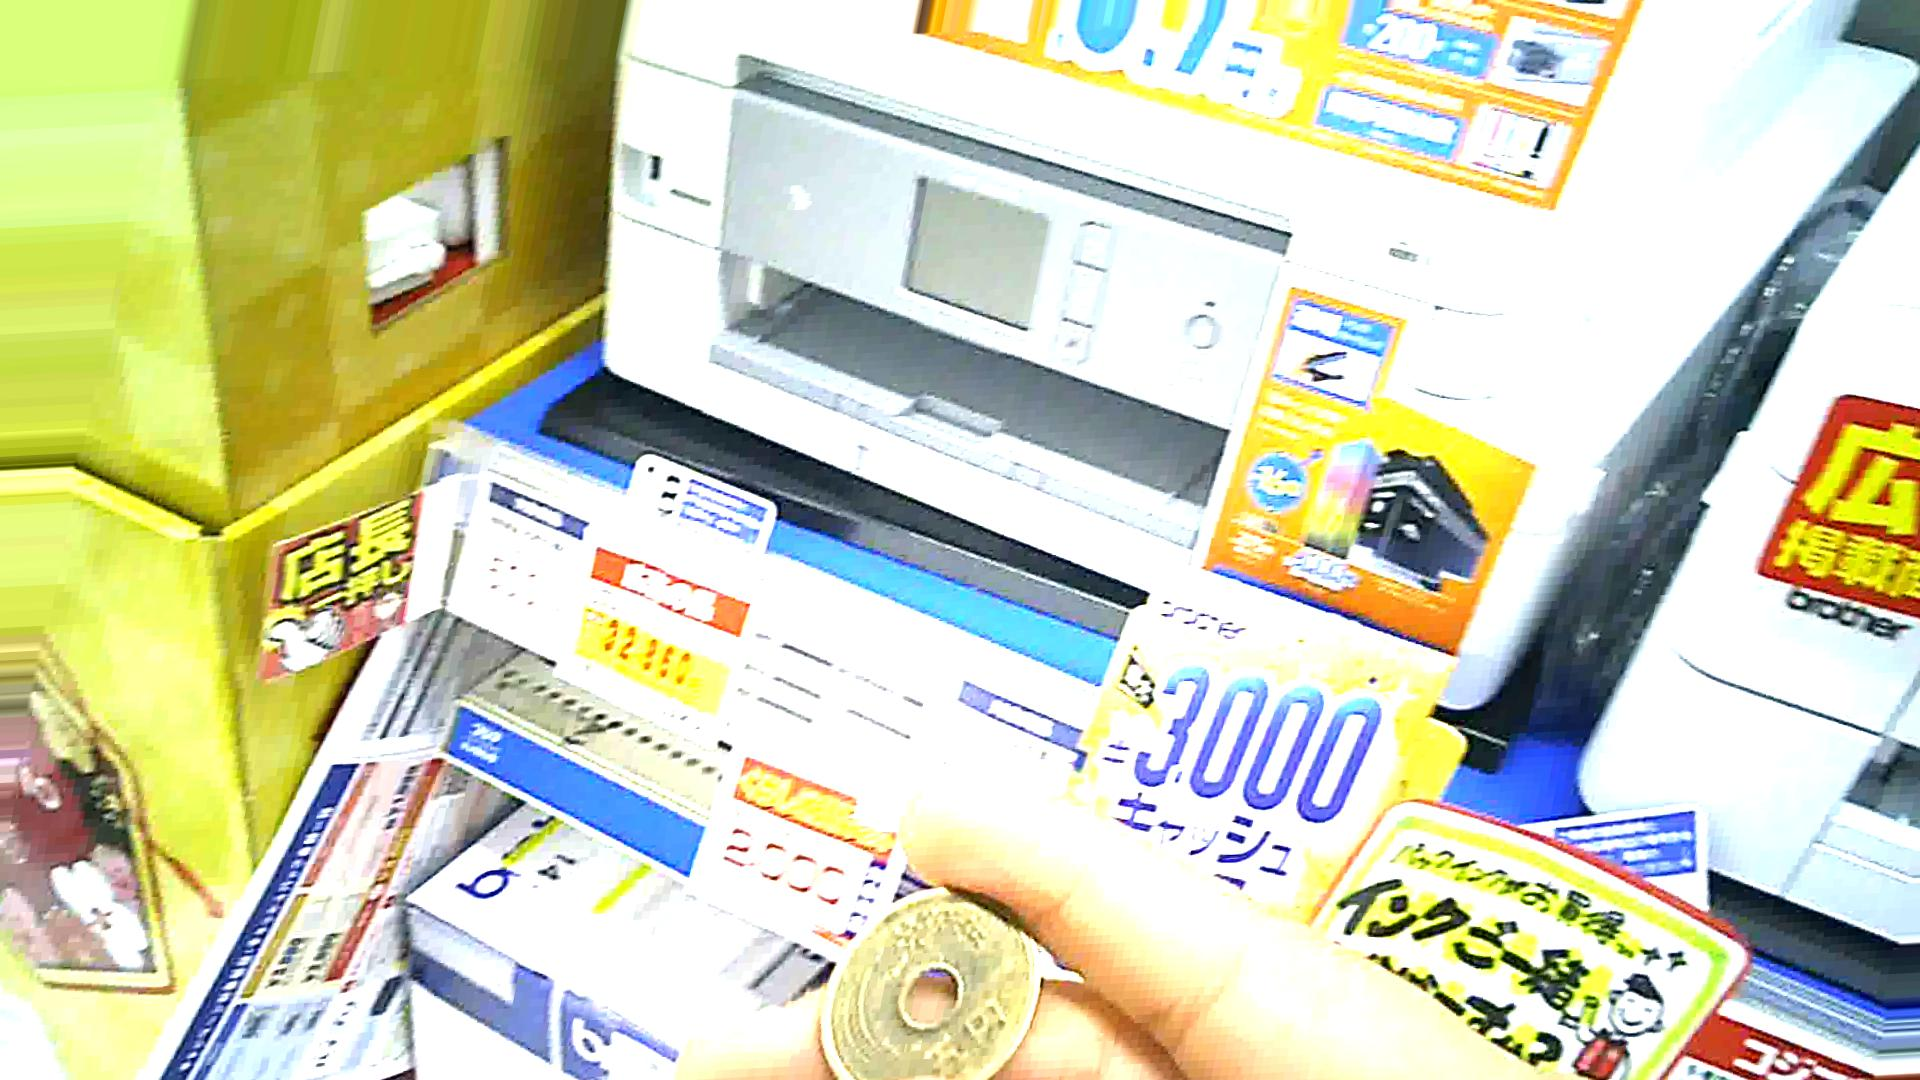5 Yen: (811, 880, 1031, 1063)
